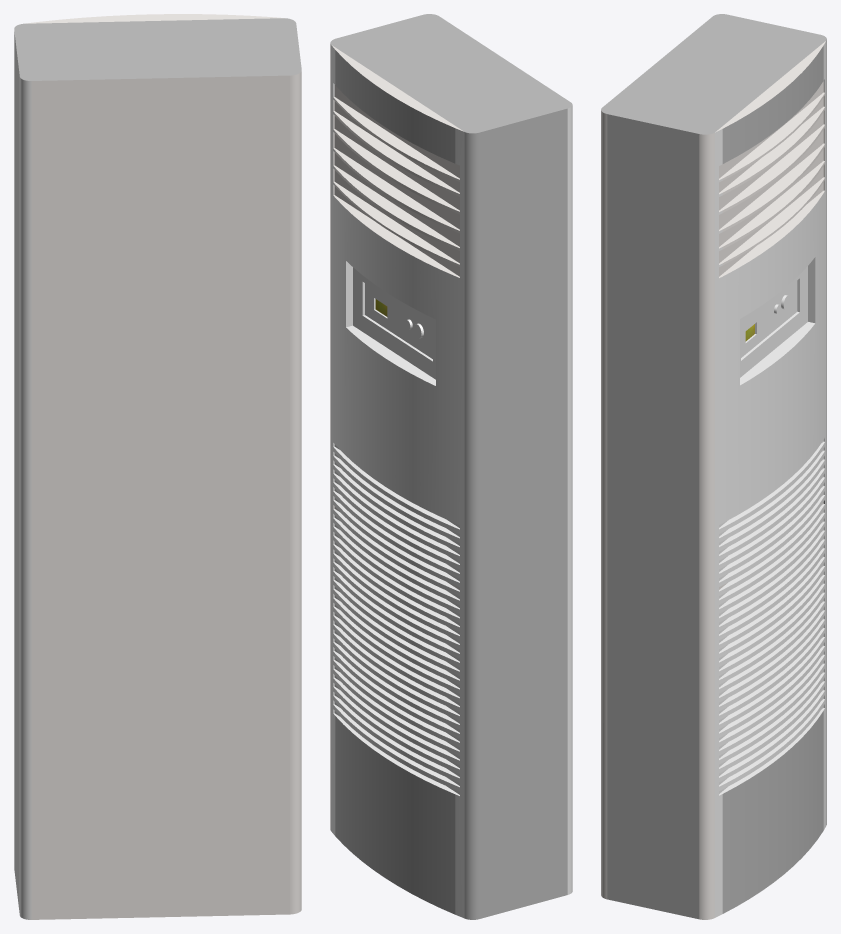
Rendered from 空调1_fixed.glb.
3 renders of one model, left to right at view 1: azimuth 30°, elevation 25°; view 2: azimuth 150°, elevation 25°; view 3: azimuth 270°, elevation 25°, orthographic. The views are drawn at different scales.
Parts seen in each view (by area): view 1: room_310_air_conditioner_01_part_003, room_310_air_conditioner_01_part_001, room_310_air_conditioner_01_part_002; view 2: room_310_air_conditioner_01_part_001, room_310_air_conditioner_01_part_002, room_310_air_conditioner_01_part_003; view 3: room_310_air_conditioner_01_part_001, room_310_air_conditioner_01_part_002, room_310_air_conditioner_01_part_003.
Part boxes in pixels (x1,y1,x2,y2): room_310_air_conditioner_01_part_003: [26, 14, 301, 919]; room_310_air_conditioner_01_part_001: [14, 18, 301, 912]; room_310_air_conditioner_01_part_002: [19, 77, 31, 919]; room_310_air_conditioner_01_part_001: [330, 14, 572, 919]; room_310_air_conditioner_01_part_002: [331, 45, 572, 918]; room_310_air_conditioner_01_part_003: [330, 44, 463, 830]; room_310_air_conditioner_01_part_001: [601, 14, 826, 919]; room_310_air_conditioner_01_part_002: [714, 40, 826, 917]; room_310_air_conditioner_01_part_003: [601, 41, 825, 919].
Size of what is drawn, in the model's own units: 0.6668 by 2.02 by 0.5274.
Materials: 4 (1 with a texture image).
